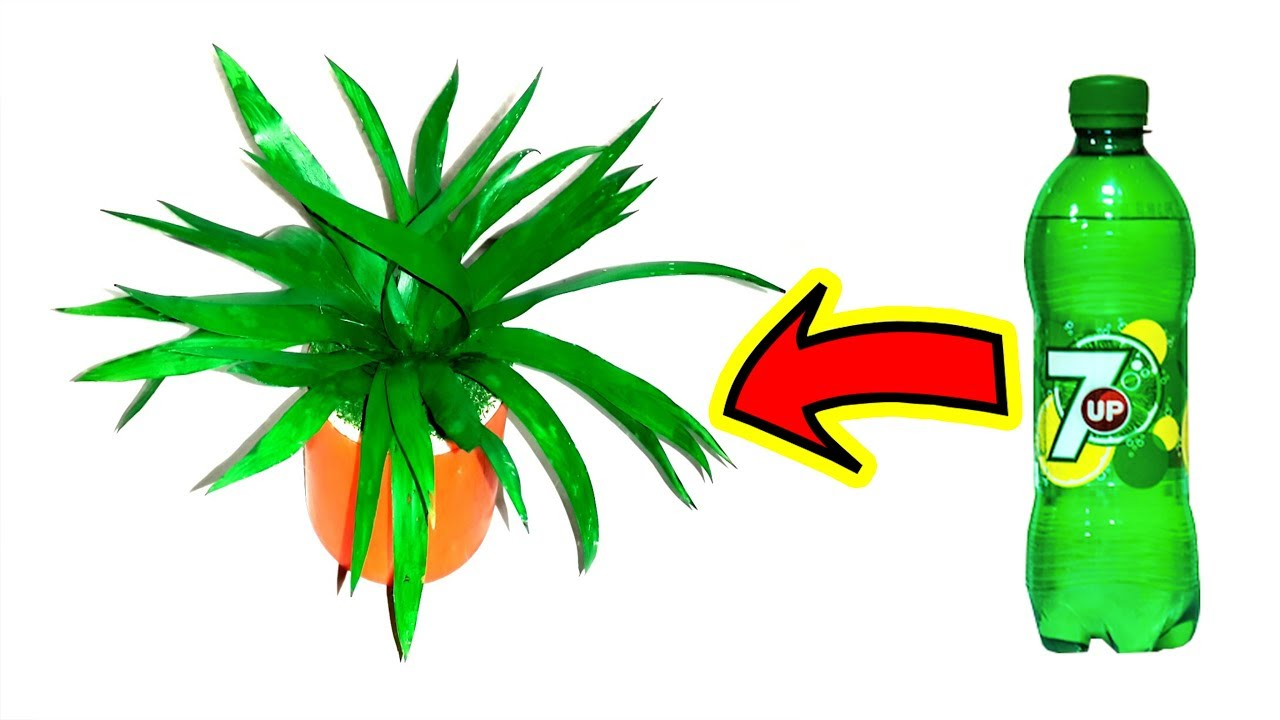plastic_bottle: (1019, 68, 1209, 660)
